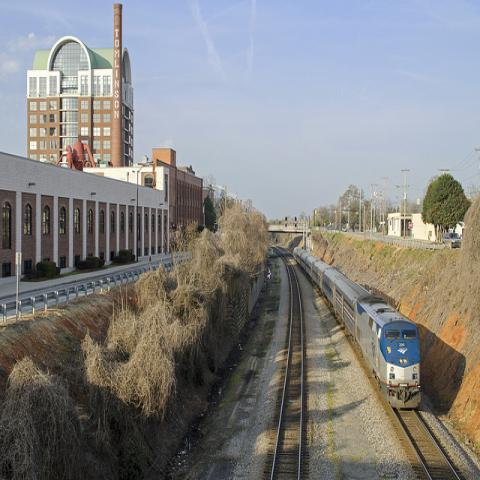car: (442, 233, 462, 249)
